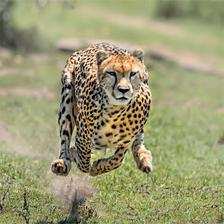Cheetah: (46, 37, 161, 177)
